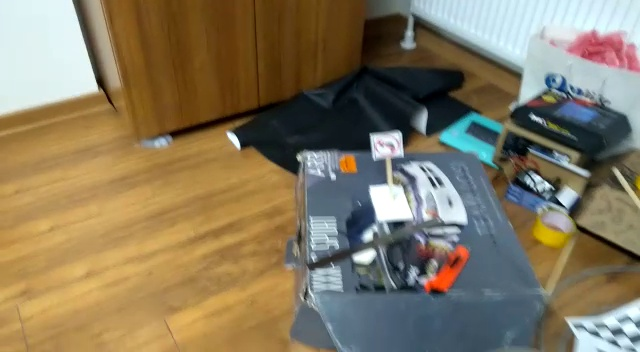sola_donulmez: (374, 132, 402, 158)
